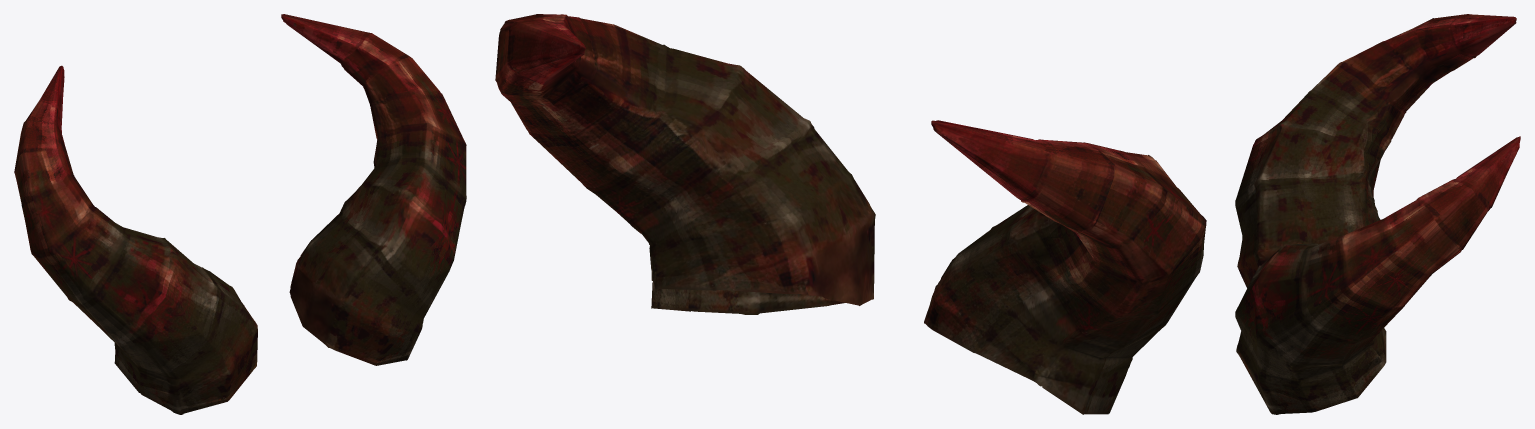
Rendered from Cuernos de Satan.glb.
3 views of the same model, side by side, from view 1: azimuth 30°, elevation 25°; view 2: azimuth 150°, elevation 25°; view 3: azimuth 270°, elevation 25° (orthographic). The views are drawn at different scales.
Visible parts, largest first — view 1: tripo_node_0d5dc1e6-2bcd-46a7-a6df-36f17b329e46; view 2: tripo_node_0d5dc1e6-2bcd-46a7-a6df-36f17b329e46; view 3: tripo_node_0d5dc1e6-2bcd-46a7-a6df-36f17b329e46.
Boxes of the visible parts, left/top/right/bottom form: tripo_node_0d5dc1e6-2bcd-46a7-a6df-36f17b329e46: left=14, top=14, right=466, bottom=414; tripo_node_0d5dc1e6-2bcd-46a7-a6df-36f17b329e46: left=495, top=14, right=1206, bottom=414; tripo_node_0d5dc1e6-2bcd-46a7-a6df-36f17b329e46: left=1235, top=14, right=1520, bottom=414.
Size of the model in its own units: 0.998 by 0.6035 by 0.5605.
Materials: 1 (1 with a texture image).
